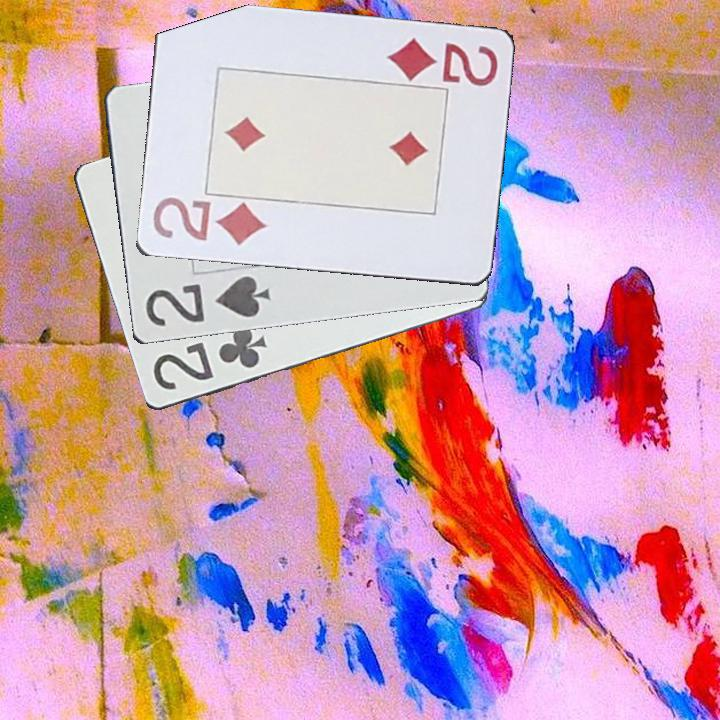2c: (149, 323, 270, 394)
2d: (149, 194, 272, 249), (382, 35, 501, 90)
2s: (141, 273, 273, 330)
